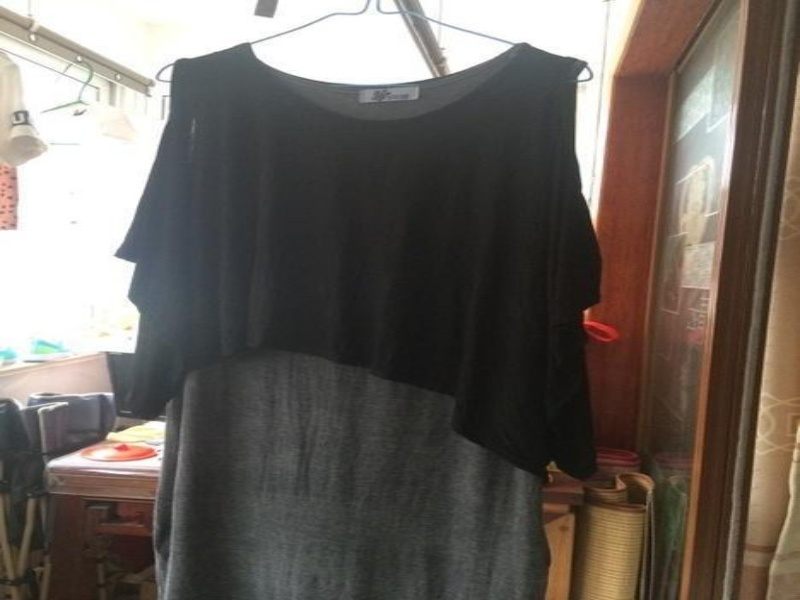vest: (115, 43, 605, 490)
vest_dress: (142, 39, 574, 599)
